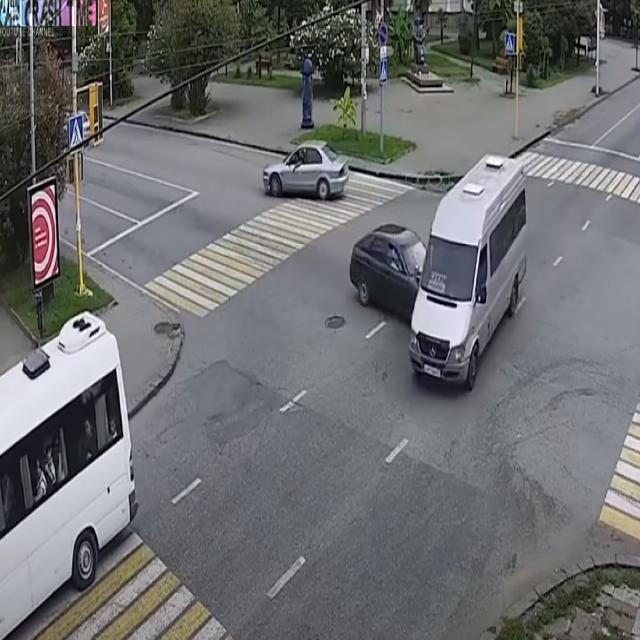accident: (344, 156, 528, 447)
